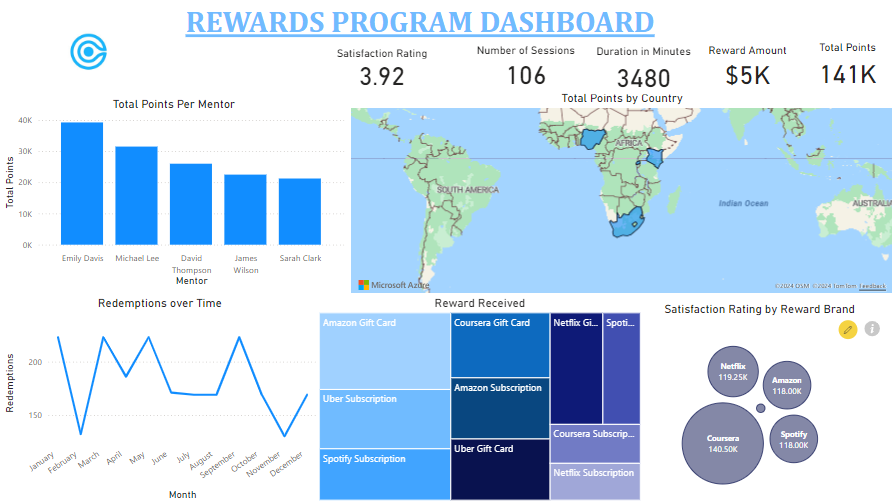

The dashboard page shown, as its layout file describes it:
{"tool":"powerbi","page":{"name":"Page 1","canvas":[1280,720],"ordinal":0},"visuals":[{"type":"packedBubble563FBEFA65CC43A48496B6BB533D9890","title":"Satisfaction Rating by Reward Brand","fields":{"measure":["Points Allocation Data.Total_Points"],"tmeasure":["Rewards Data.Satisfaction_Rating_on_Reward"],"category":["Rewards Data.Brand"]},"box":[890,431.7,390,288.3],"z":0},{"type":"card","title":"Total Points","fields":{"Values":["Points Allocation Data.Total_Points"]},"box":[1141,57.8,139,71.6],"z":1000},{"type":"columnChart","title":"Total Points Per Mentor","fields":{"Y":["Points Allocation Data.Total_Points"],"Category":["Points Allocation Data.Mentor_Name"]},"box":[0,138.3,496.7,275],"z":2000},{"type":"lineChart","title":"Redemptions over Time","fields":{"Y":["Rewards Data.Redemptions_by_User"],"Category":["Calendar.Month_Name"]},"box":[0,423.3,456.7,296.7],"z":7000},{"type":"azureMap","title":"Total Points by Country","fields":{"Category":["Rewards Data.Country"]},"box":[496.7,130,783.3,293.3],"z":8000},{"type":"textbox","box":[259.5,0,789.3,84.2],"z":8500},{"type":"treemap","title":"Reward Received","fields":{"Group":["Rewards Data.Reward_Received"],"Values":["Calendar.Total Rows"]},"box":[451.7,423.3,468.3,296.7],"z":9000},{"type":"card","title":"Reward Amount","fields":{"Values":["Rewards Data.Reward_Value_Amount_in_Dollars"]},"box":[993.7,61.9,147.3,67.4],"z":9500},{"type":"card","title":"Duration in Minutes","fields":{"Values":["Points Allocation Data.Session_Duration_Min"]},"box":[839.5,62.5,158.9,72],"z":10000},{"type":"card","title":"Number of Sessions","fields":{"Values":["Calendar.Total Rows"]},"box":[668.9,61.9,165.2,67.4],"z":10500},{"type":"card","title":"Satisfaction Rating","fields":{"Values":["Rewards Data.Satisfaction_Rating_on_Reward"]},"box":[470.7,66.1,151.4,60.6],"z":11000},{"type":"image","box":[49.5,0,152.8,150],"z":11001}]}

Visuals, with their boxes in screenshot pixels (x1, y1, x2, y2), scaled from the page's 1280x720 canvas onto the 892x501 screenshot:
"Satisfaction Rating by Reward Brand" packedBubble563FBEFA65CC43A48496B6BB533D9890: rect(620, 300, 891, 500)
"Total Points" card: rect(795, 40, 891, 90)
"Total Points Per Mentor" columnChart: rect(0, 96, 346, 288)
"Redemptions over Time" lineChart: rect(0, 295, 318, 500)
"Total Points by Country" azureMap: rect(346, 90, 891, 295)
textbox: rect(181, 0, 731, 59)
"Reward Received" treemap: rect(315, 295, 641, 500)
"Reward Amount" card: rect(692, 43, 795, 90)
"Duration in Minutes" card: rect(585, 43, 696, 94)
"Number of Sessions" card: rect(466, 43, 581, 90)
"Satisfaction Rating" card: rect(328, 46, 434, 88)
image: rect(34, 0, 141, 104)
